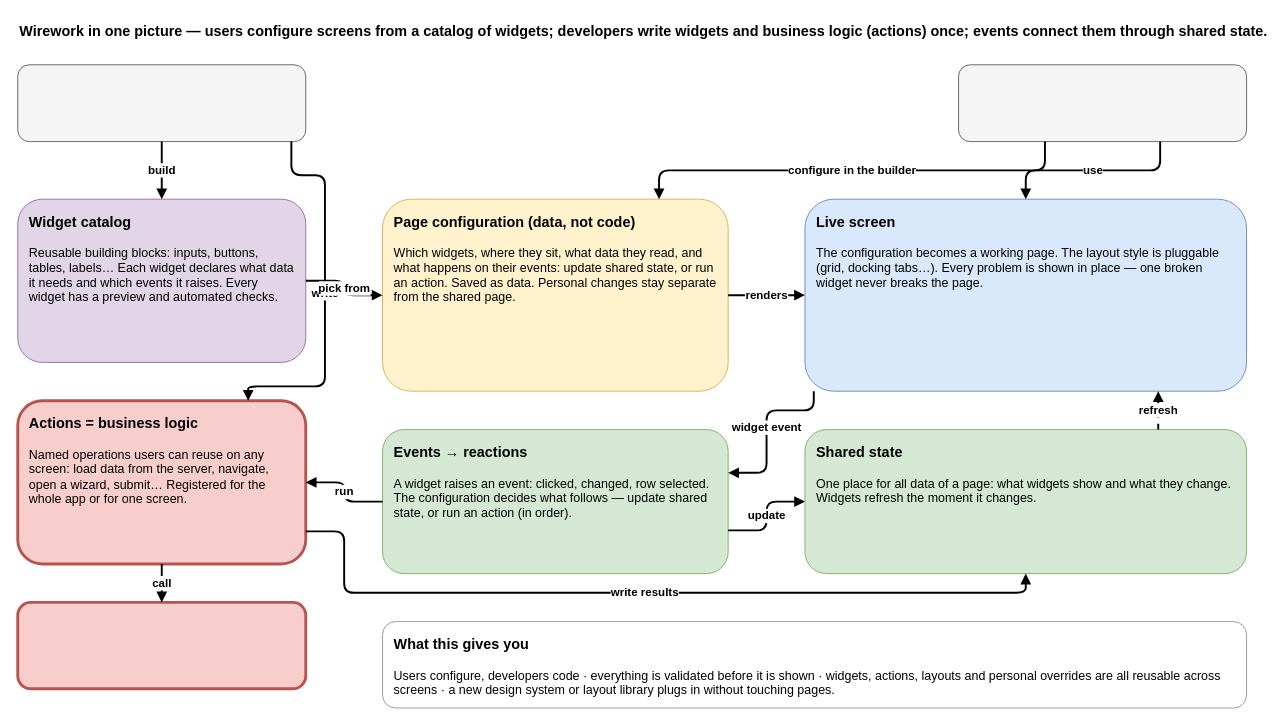
This 1284x725 diagram has some shape labels left out. The centre of each missing label's shape, as x and y in pixels:
Dashboard users Assemble and personalise screens in the builder — no code.: (1102,103)
Developers Build widgets and write business logic (actions) — in code, once.: (161,103)
Services & APIs Backend calls, routing, dialogs — used by actions only.: (161,645)
